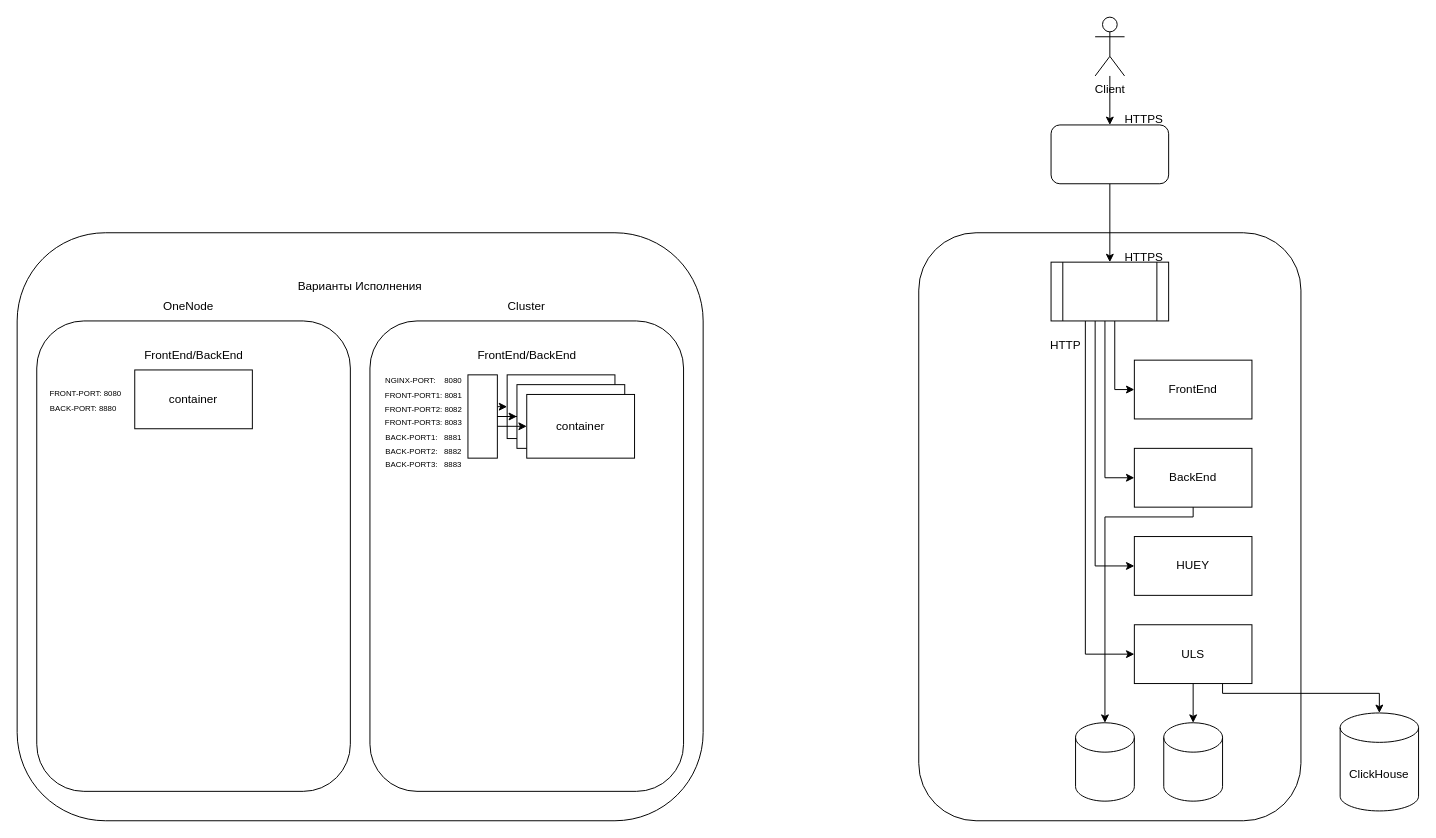
Image size: 1436x838. Some labels were removed from this diagram. The shapes that lost their labels are listed below. From the top down, each one's box as (x1, y1, x2, y2) in pixels, then its label:
(1050, 124, 1169, 184): LoadBalancer
(1050, 261, 1169, 321): API GateWay
(467, 374, 497, 458): N G I N X
(1075, 722, 1134, 801): MySQL
(1163, 722, 1223, 801): Redis
